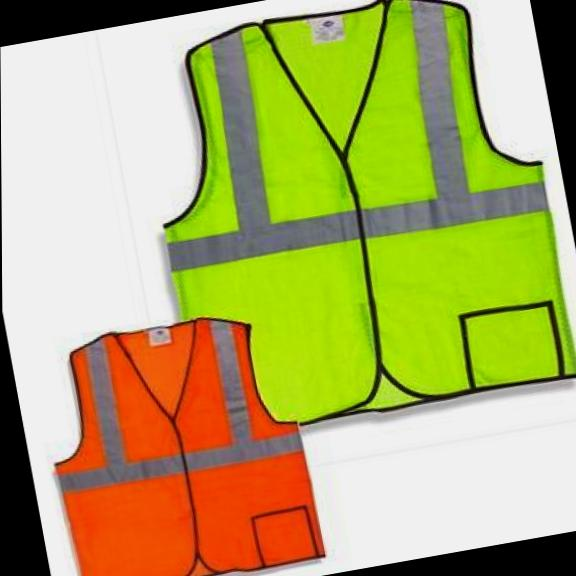safety_vest: (129, 0, 576, 444), (31, 301, 328, 576)
